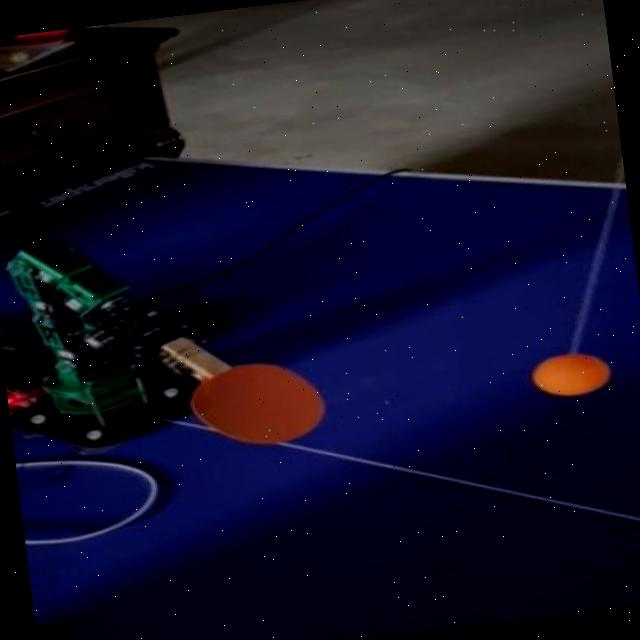ping-pong-ball: (525, 346, 615, 400)
